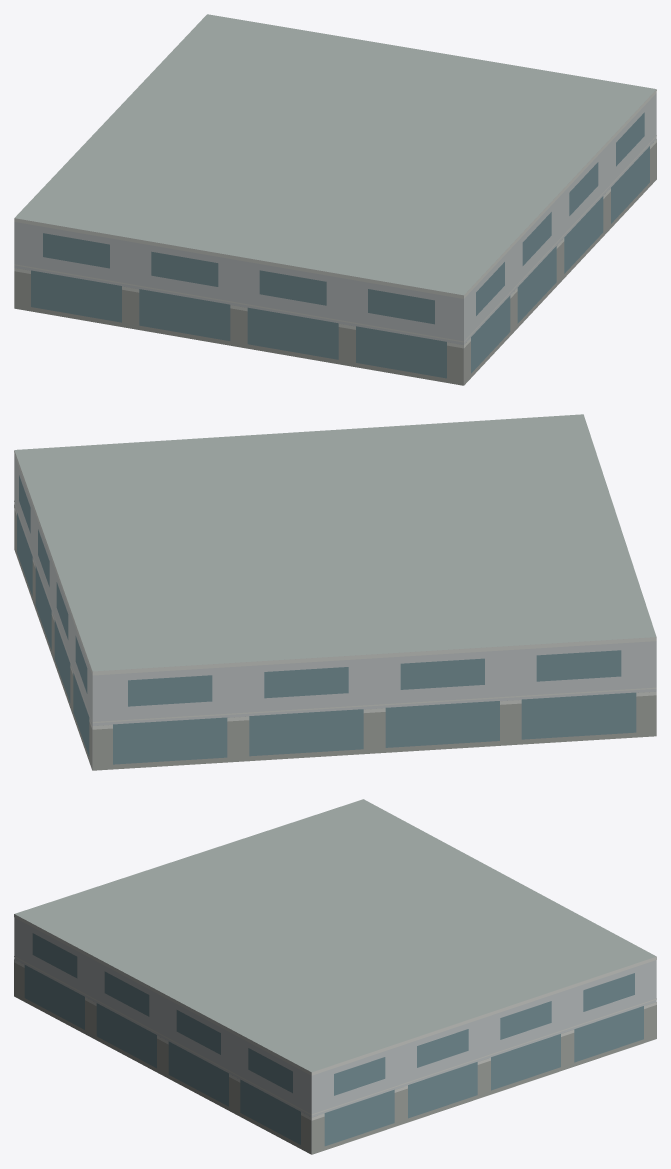
Rendered from survey-upis-32784888.glb.
3 views of the same model, one above another, from view 1: azimuth 30°, elevation 25°; view 2: azimuth 150°, elevation 25°; view 3: azimuth 270°, elevation 25° (orthographic). The views are drawn at different scales.
Parts seen in each view (by area): view 1: survey-upis-32784888.tmp; view 2: survey-upis-32784888.tmp; view 3: survey-upis-32784888.tmp.
Boxes of the visible parts, x1,y1,x2,y2 form: survey-upis-32784888.tmp: (14,14,656,385); survey-upis-32784888.tmp: (14,414,656,770); survey-upis-32784888.tmp: (14,799,656,1154).
Size of the model in its own units: 28.45 by 4 by 28.27.
